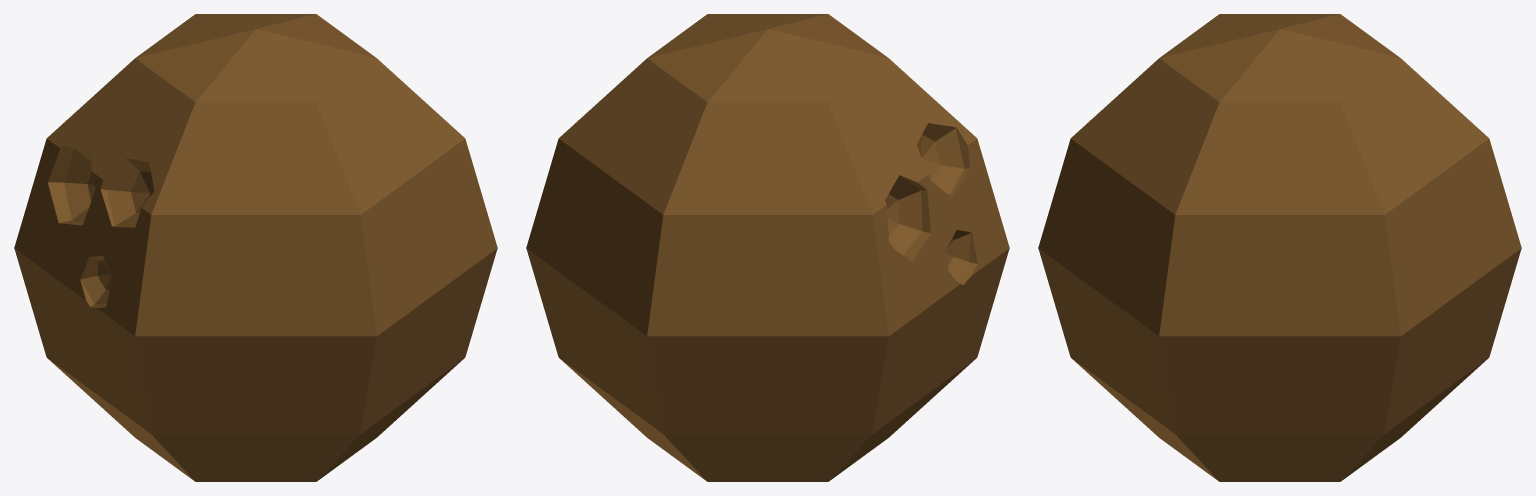
The model's file is SM_Coconut.fbx.
The picture shows the model from 3 angles, left to right: view 1: azimuth 30°, elevation 25°; view 2: azimuth 150°, elevation 25°; view 3: azimuth 270°, elevation 25°; orthographic projection.
Parts seen in each view (by area): view 1: SM_Coconut; view 2: SM_Coconut; view 3: SM_Coconut.
Part boxes in pixels (left/top/right/bottom): SM_Coconut: left=14, top=14, right=497, bottom=481; SM_Coconut: left=526, top=14, right=1009, bottom=481; SM_Coconut: left=1038, top=14, right=1521, bottom=481.
Size of the model in its own units: 86.6 by 100 by 100.
